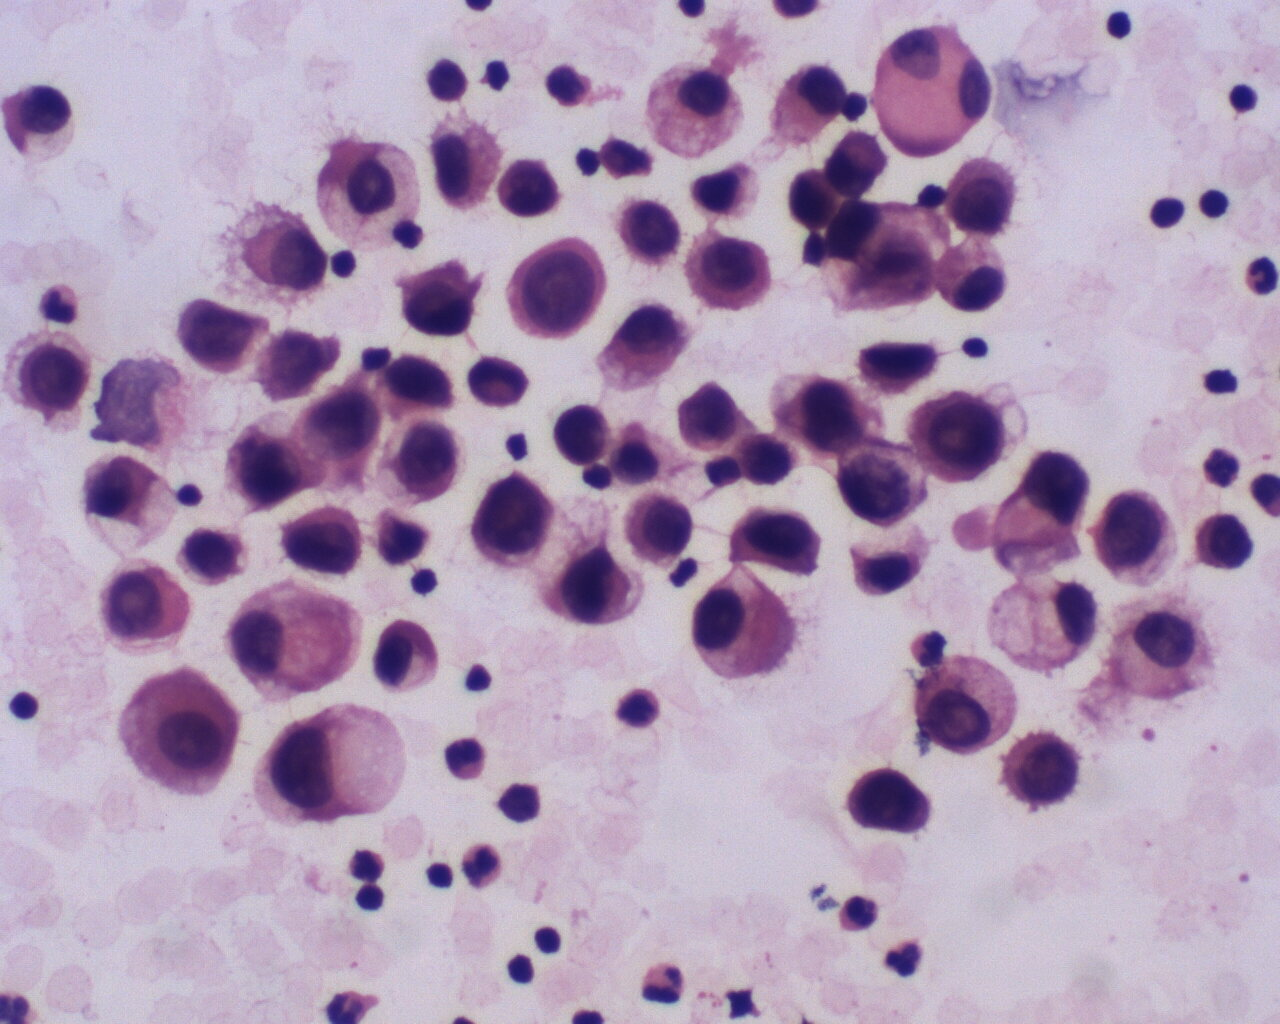ab: (912, 651, 1022, 754), (507, 236, 608, 342), (95, 560, 196, 652), (834, 434, 935, 525), (464, 472, 559, 566), (917, 385, 1008, 483), (1096, 486, 1184, 585), (679, 229, 774, 319), (176, 294, 266, 387), (377, 421, 468, 511), (424, 110, 504, 212), (1004, 723, 1087, 819), (841, 765, 935, 846), (399, 260, 493, 341), (11, 334, 94, 421), (279, 497, 371, 574), (730, 503, 820, 580), (939, 156, 1025, 236), (623, 491, 704, 573), (669, 376, 745, 458), (853, 334, 945, 400), (1189, 506, 1256, 581), (613, 193, 682, 265), (494, 156, 565, 222), (180, 525, 248, 591), (551, 402, 616, 467)
histo: (986, 571, 1101, 675)
lymph: (1100, 5, 1140, 48), (1150, 192, 1189, 233), (5, 685, 47, 723), (350, 880, 388, 917), (531, 920, 565, 958), (1227, 80, 1262, 116)
meso: (119, 666, 237, 802), (875, 23, 994, 158), (639, 62, 746, 161)
neutro: (456, 839, 508, 894), (637, 958, 691, 1009), (880, 937, 931, 986), (835, 889, 886, 938), (1202, 442, 1246, 491), (1243, 248, 1280, 301)
